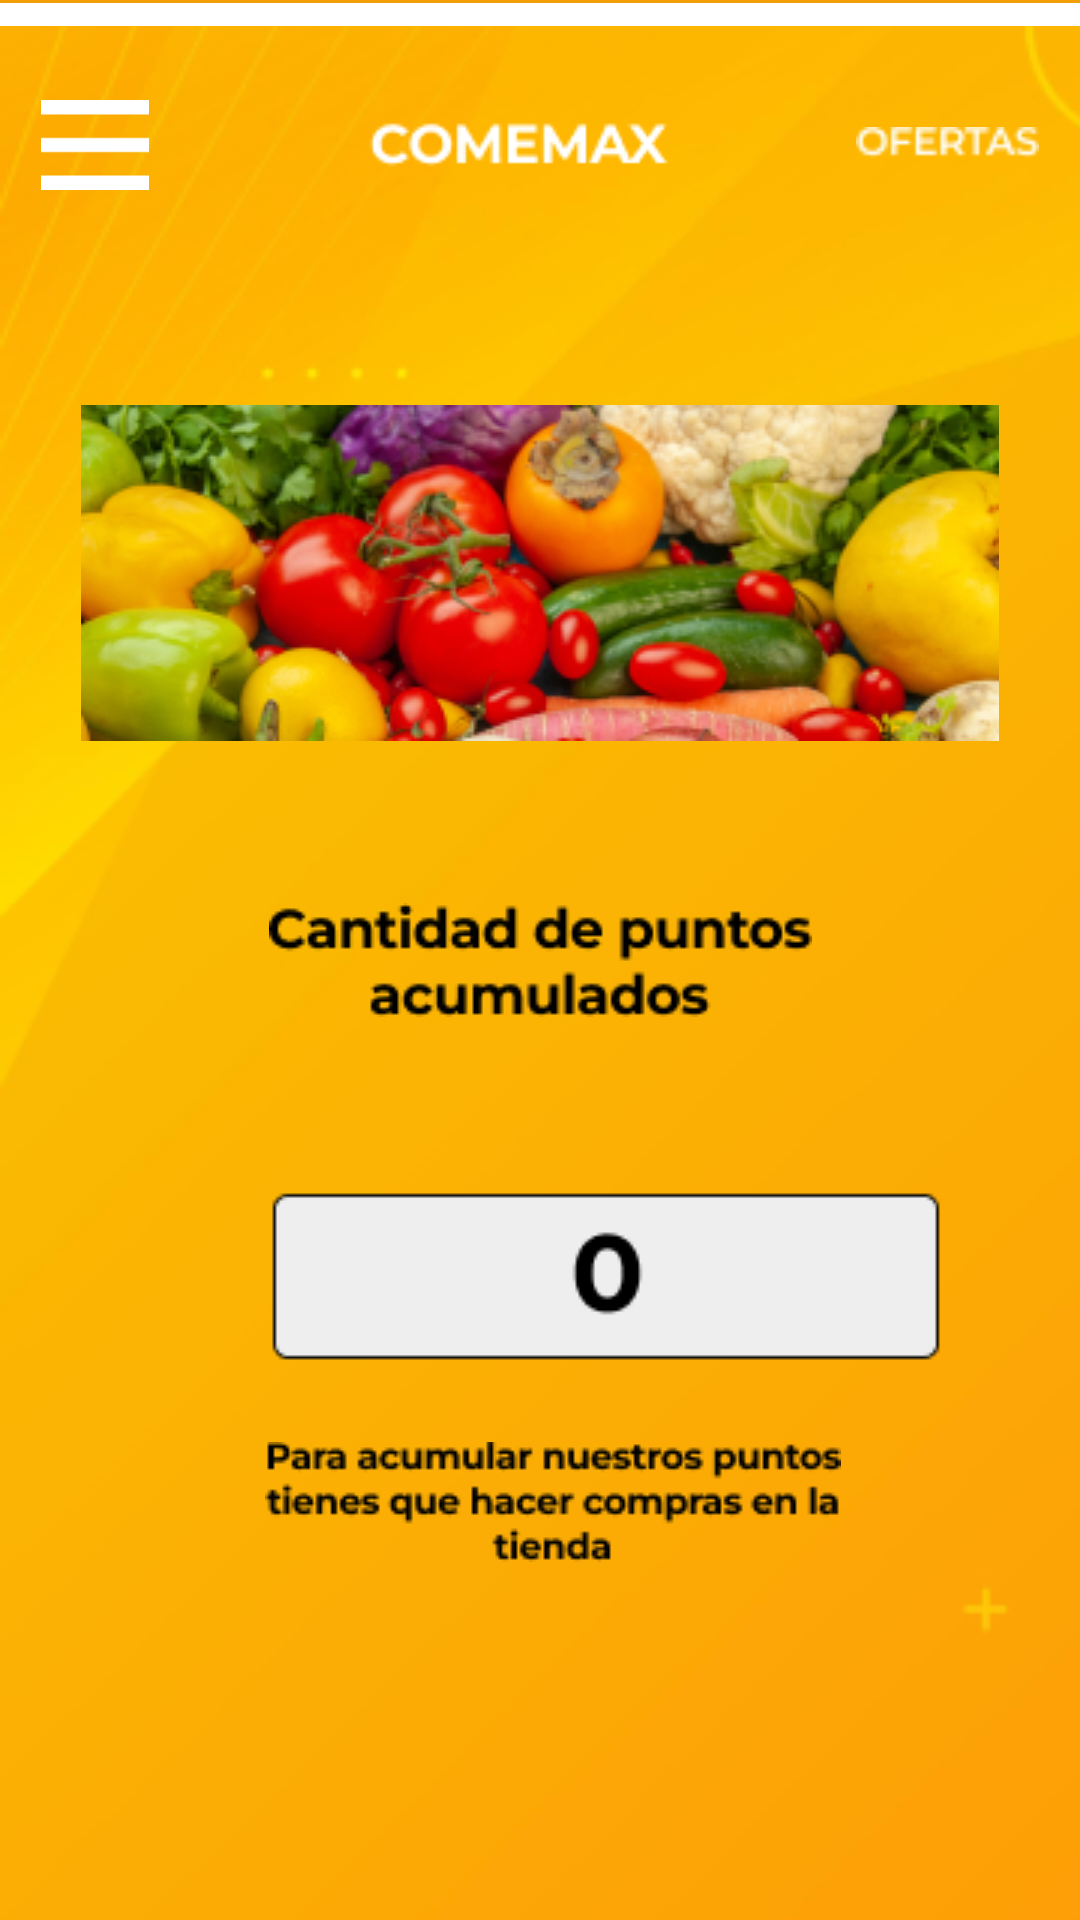

Icons on this 1080 × 1920 Android screen, each with the point to tap as [x,y]:
hamburguesa: [95,145]
